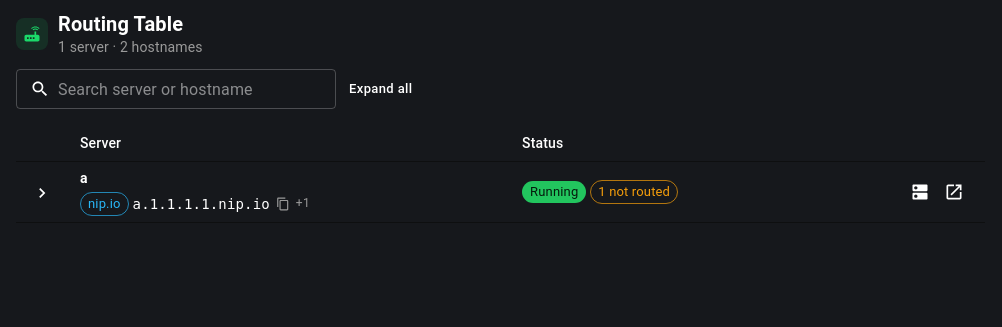
Scenario: RoutingTable › row actions (#768) › marks each unrouted hostname in the expanded list and explains it in a tooltip
This screenshot has width=1002, height=327.
Step 1. Click the button named "Show domains of a" → (42,193), box [32,183,52,203]
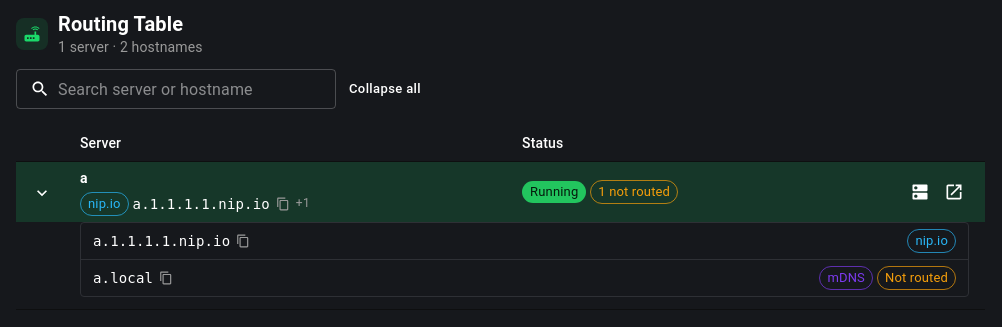
Now the text "Not routed" is shown, box [885,270,948,285]
Now the element named "mc-router has not registered this hostname" is shown, box [877,266,956,290]
